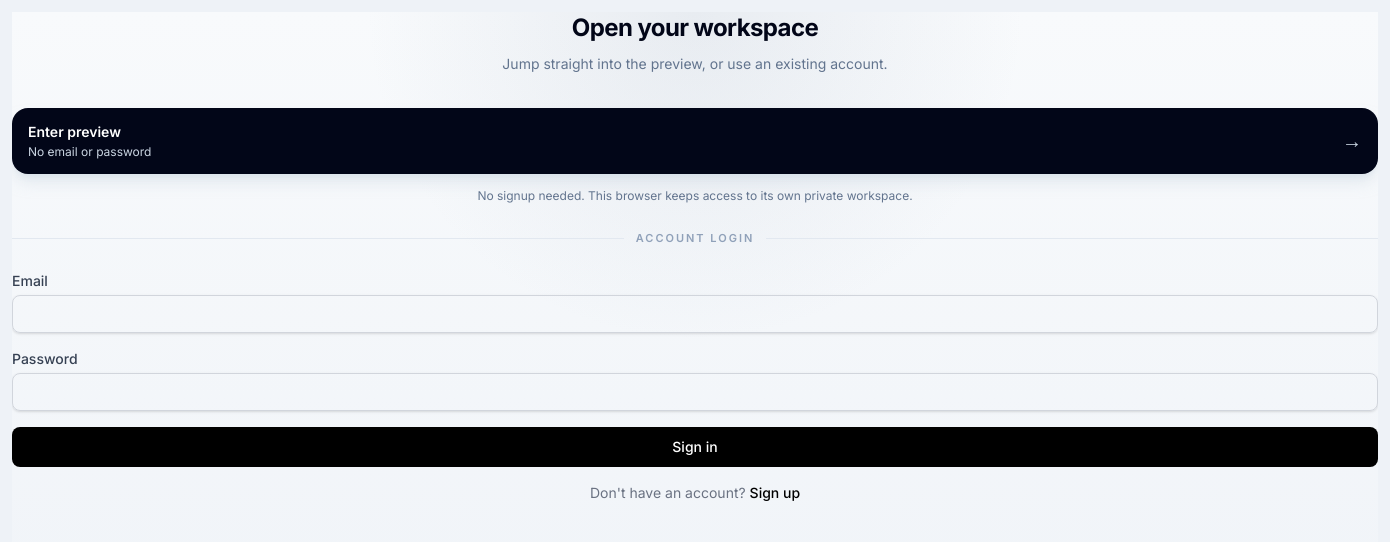
Test: LoginForm › client-side validation › shows error for empty password on submit
In the field labelled "Email": (695, 314) [12,294,1378,332], type "user@example.com"
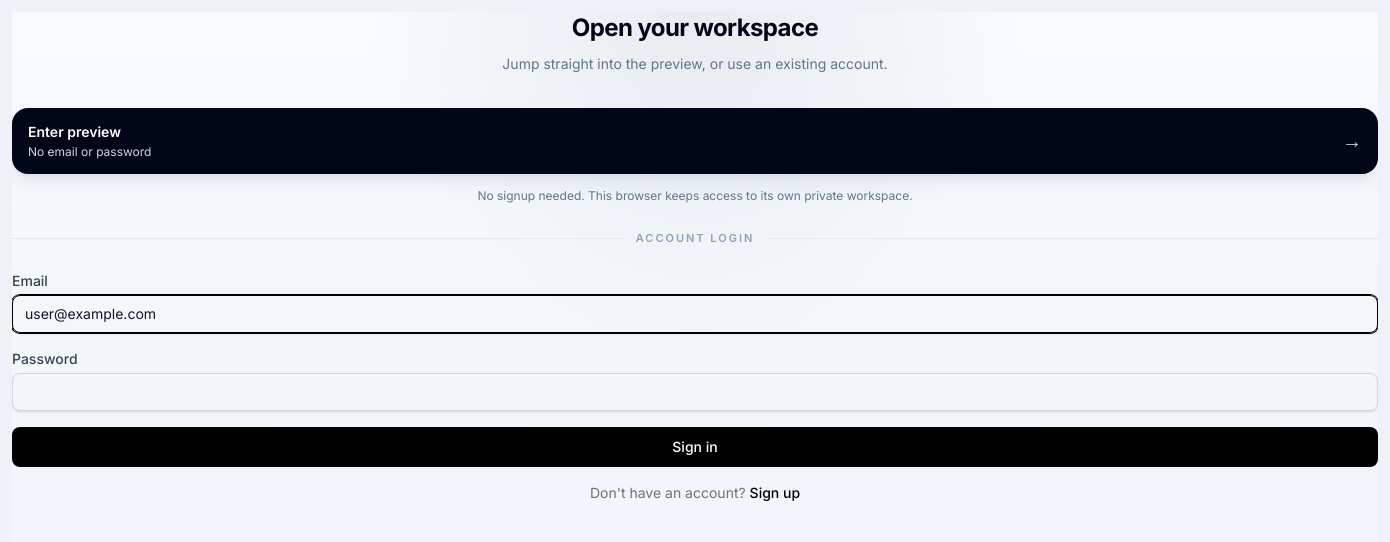
Click the button "Sign in": (695, 446) [12,426,1378,466]
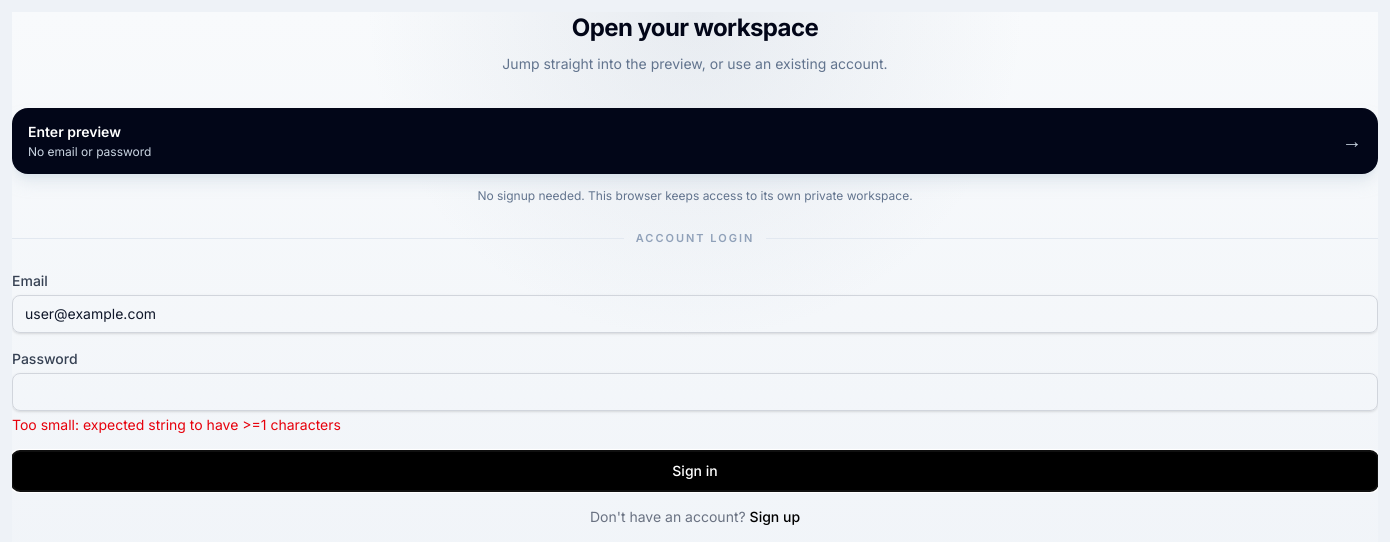
Now the message shows "1", box [12,416,341,432]
